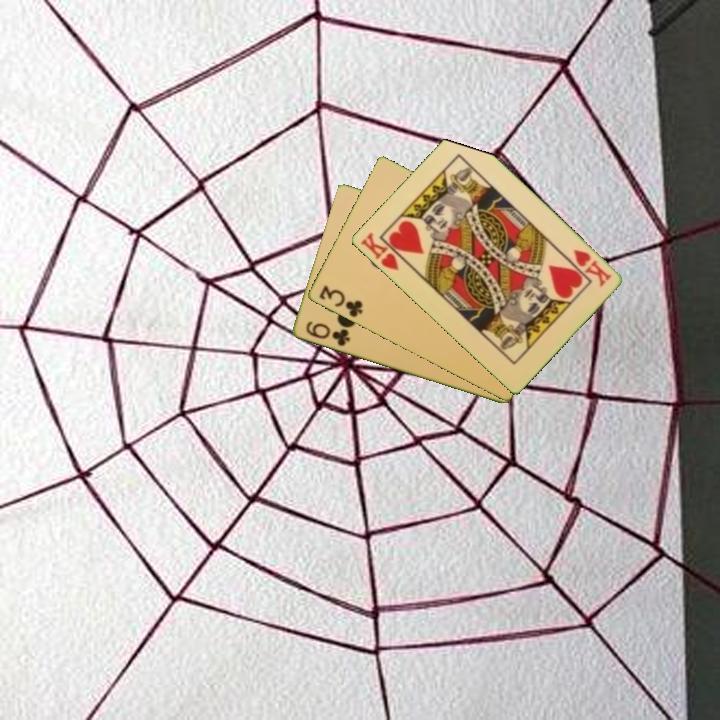3c: (315, 281, 366, 321)
6c: (302, 318, 353, 349)
Kh: (357, 228, 410, 274), (569, 245, 614, 290)
